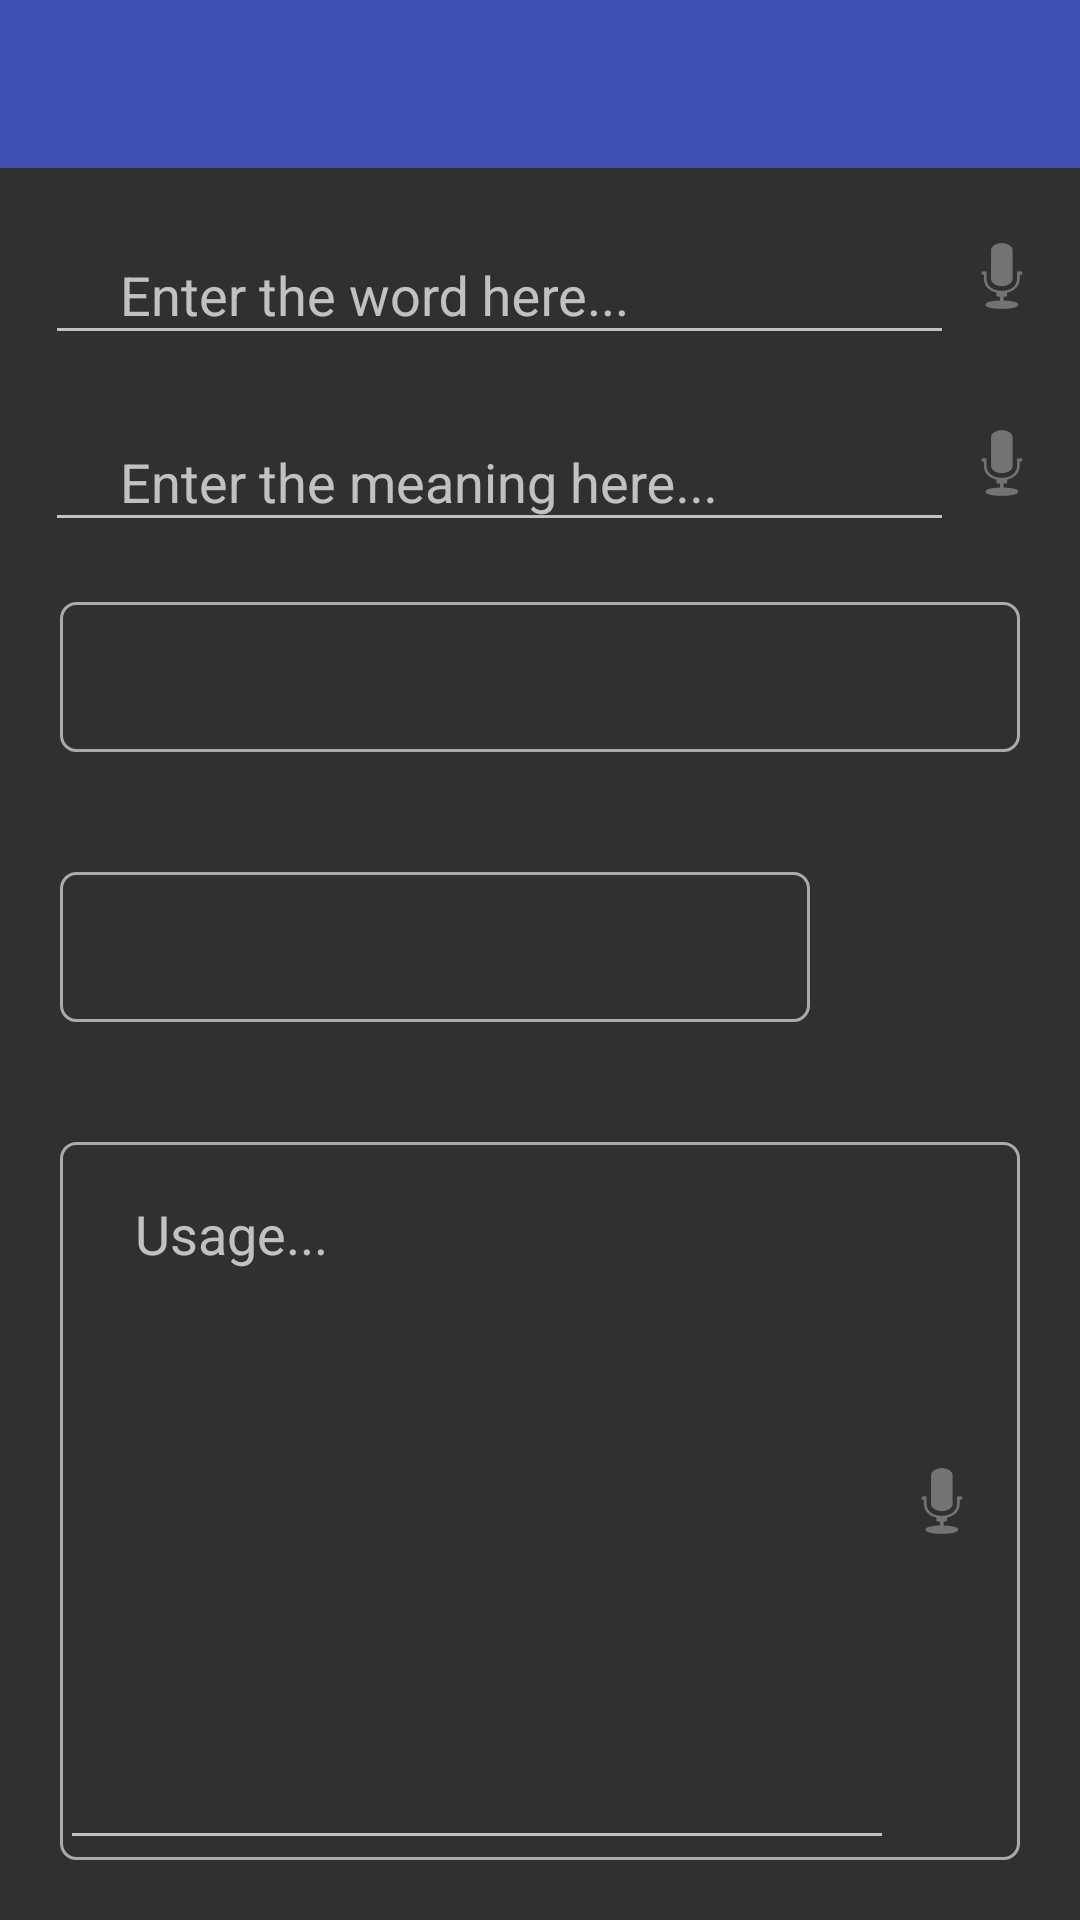

Icons on this 1080w x 1920h Android screen, each with its box as Rect(x1, y1, x2, y2):
speak now: Rect(981, 243, 1022, 309), Rect(981, 430, 1022, 496), Rect(921, 1468, 962, 1534)
